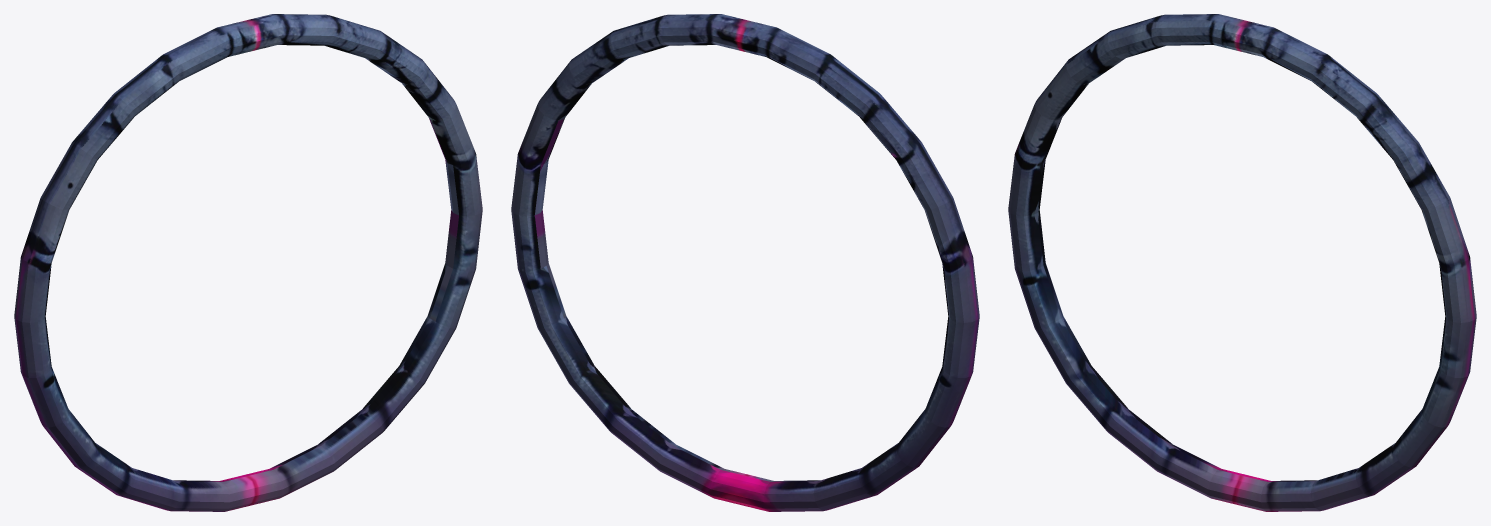
The model's file is well-of-urd-ring-texture-wrap-2026-05-14T23-34-00-441Z.high.glb.
The picture shows the model from 3 angles, left to right: view 1: azimuth 30°, elevation 25°; view 2: azimuth 150°, elevation 25°; view 3: azimuth 330°, elevation 25°; orthographic projection.
Parts seen in each view (by area): view 1: GLTF; view 2: GLTF; view 3: GLTF.
Boxes of the visible parts, x1=… form: GLTF: x1=14, y1=14, x2=482, y2=511; GLTF: x1=511, y1=14, x2=979, y2=511; GLTF: x1=1008, y1=14, x2=1476, y2=511.
Size of the model in its own units: 23.41 by 23.24 by 1.38.
1 material, 1 textured.
